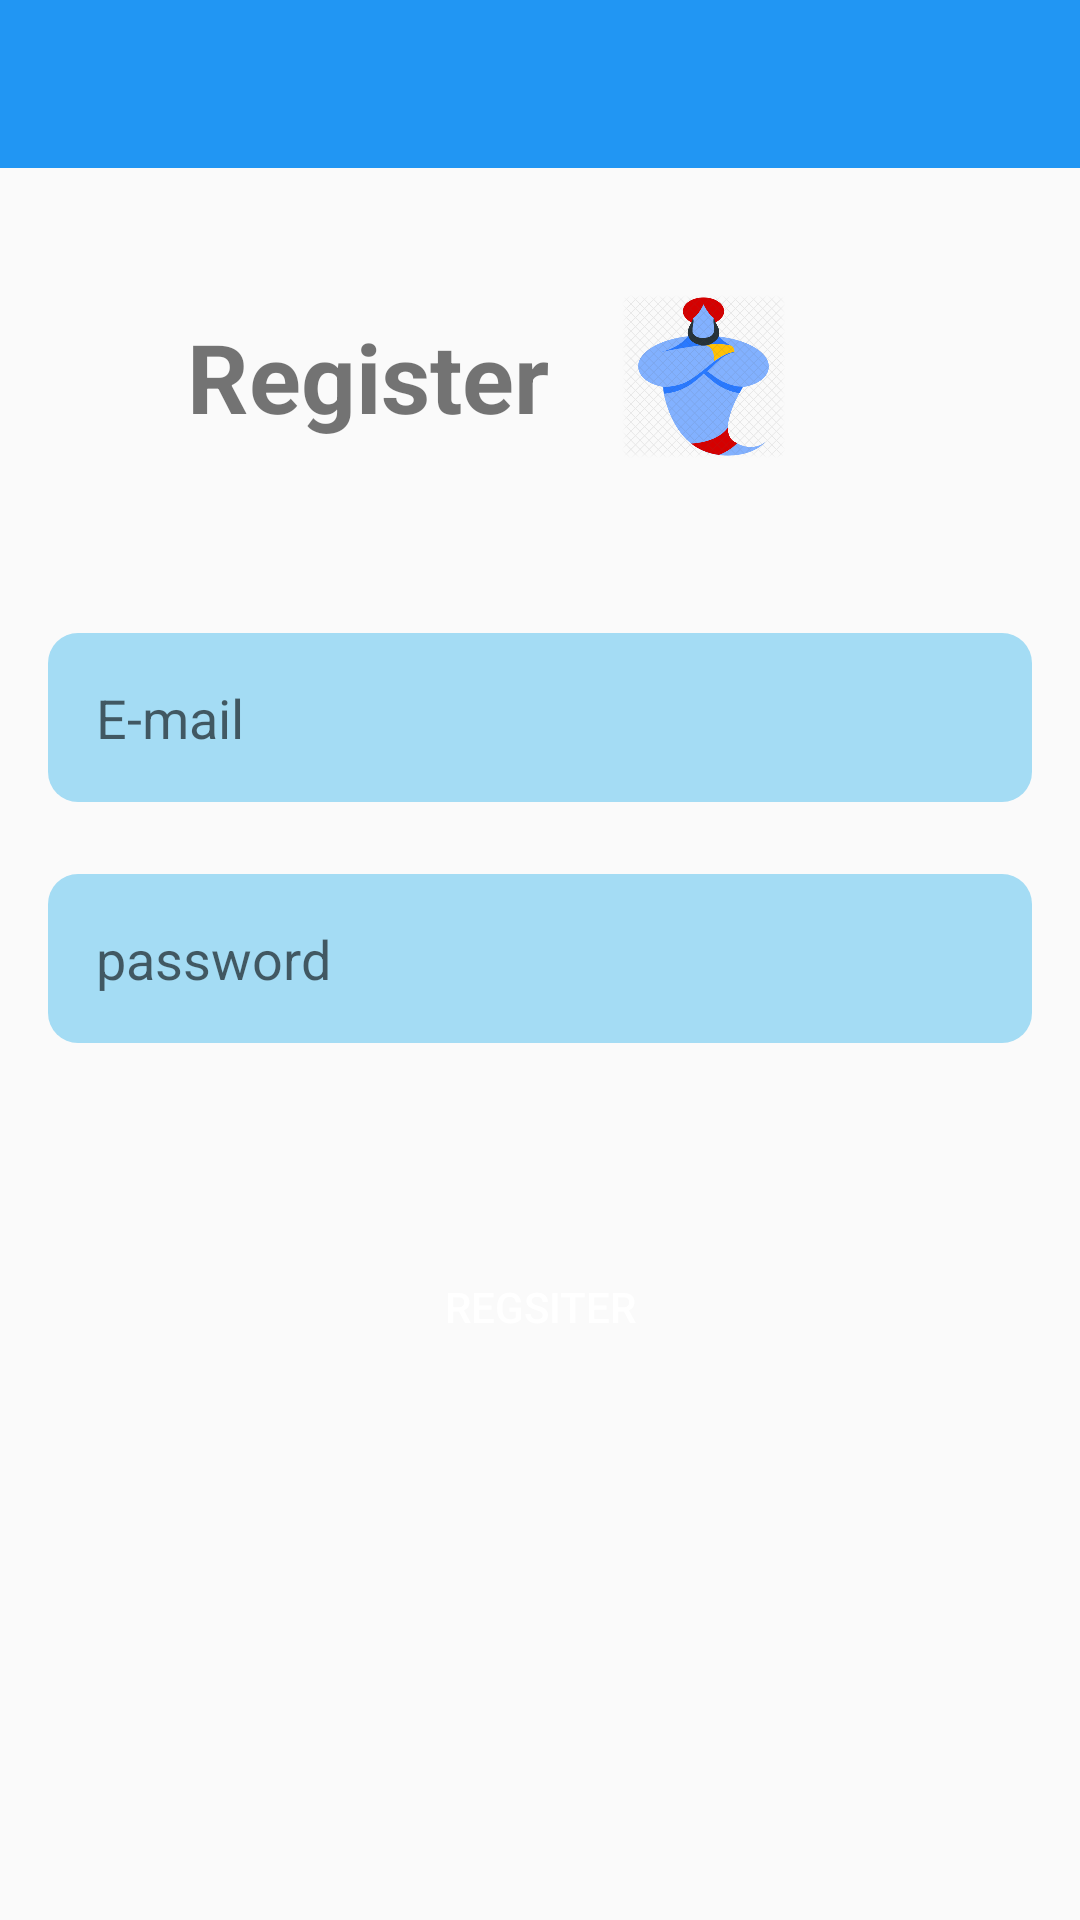

Screen size 1080 x 1920. Icon name, then its box in pixels as box(x1, y1, x2, y2):
genie: box(638, 297, 769, 456)
